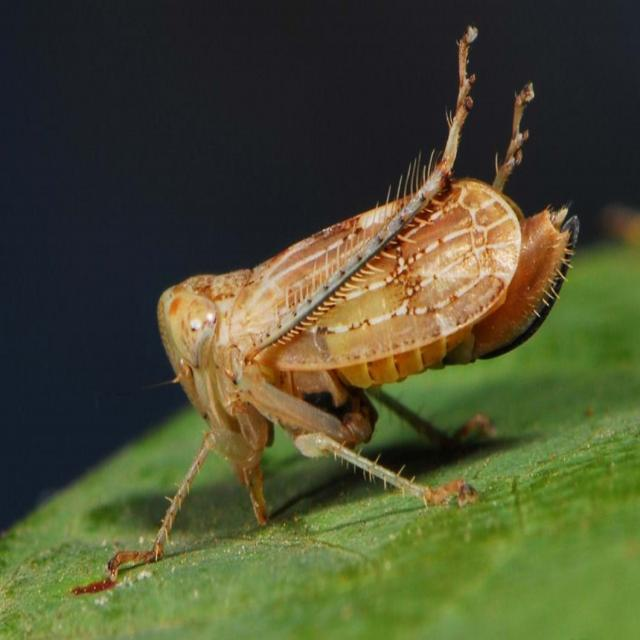Yechan: (134, 22, 584, 540)
